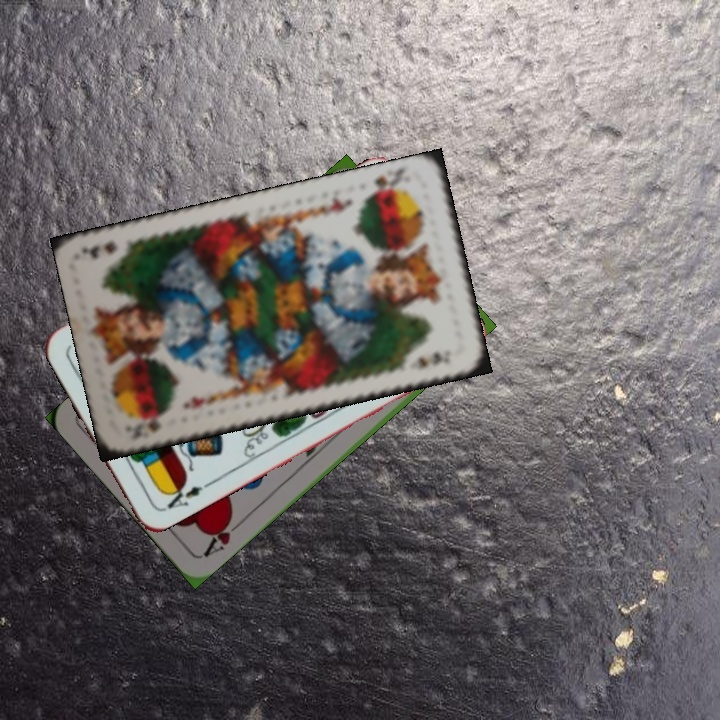EA: (157, 478, 212, 515)
HA: (198, 511, 247, 560)
SK: (364, 165, 407, 200), (133, 410, 170, 441)
